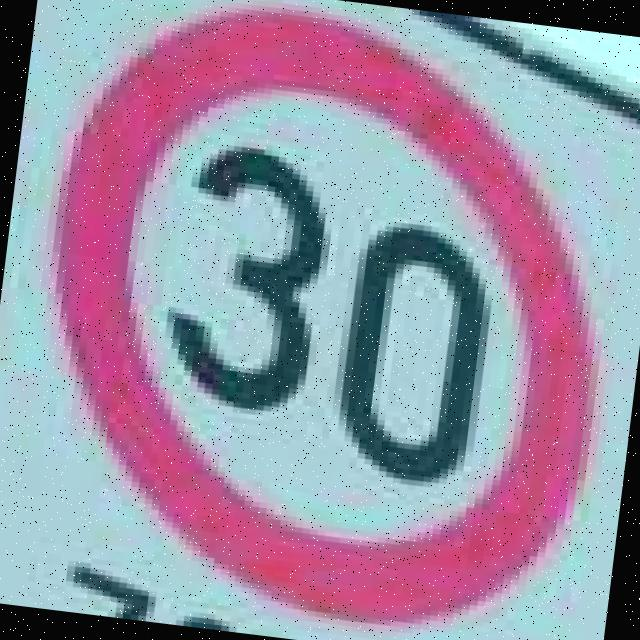Ograniczenie predkosci do 30: (5, 0, 637, 636)
